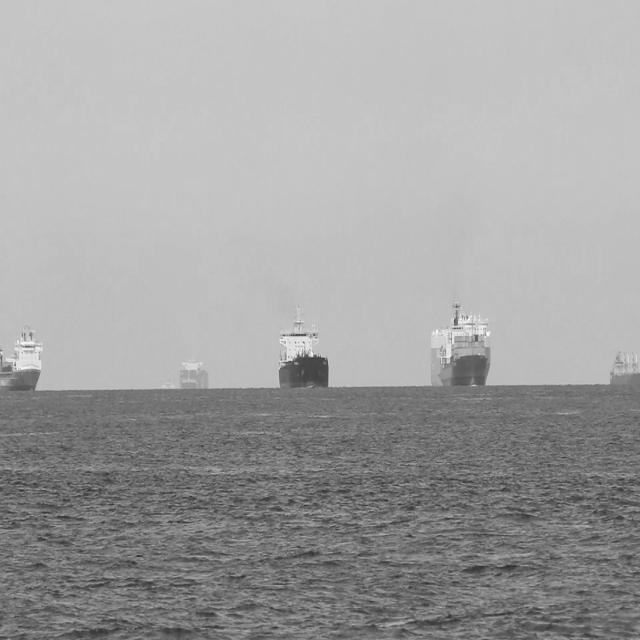ship: (428, 295, 492, 390), (277, 296, 329, 388), (1, 322, 46, 392), (177, 354, 210, 391), (608, 347, 638, 387), (158, 375, 178, 393)
